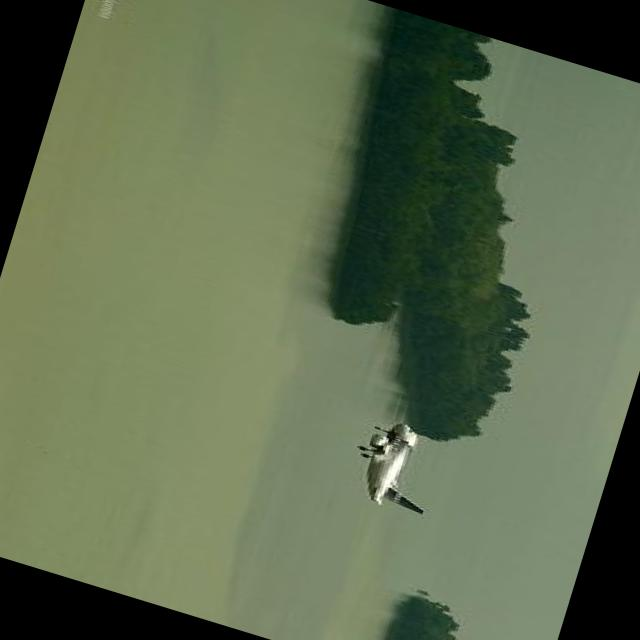aeroplane: (340, 412, 450, 522)
